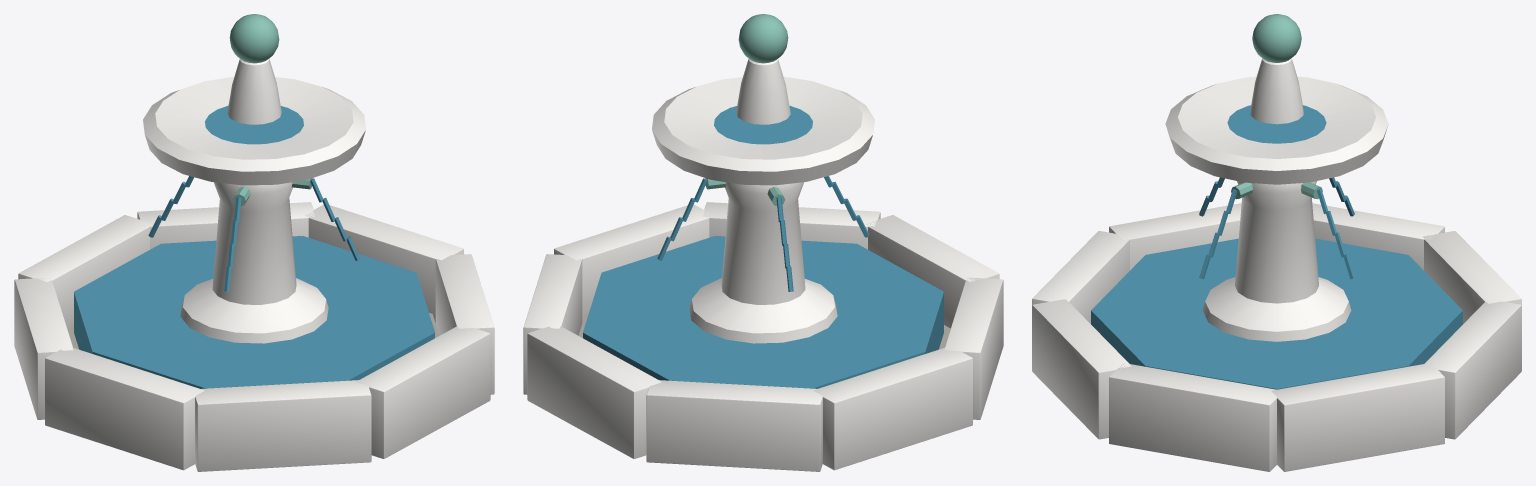
Rendered from th48_brunnen.glb.
3 views of the same model, side by side, from view 1: azimuth 30°, elevation 25°; view 2: azimuth 150°, elevation 25°; view 3: azimuth 270°, elevation 25° (orthographic).
Visible parts, largest first — view 1: Cylinder.001, Schale, Saeule, Cube.005, Cube.004, Cube.006, Cube, Cube.002, Cube.003, Cube.007, Cube.001, Aufsatz (+2 smaller); view 2: Cylinder.001, Schale, Saeule, Cube.002, Cube.003, Cube.001, Cube.007, Cube.005, Cube.004, Cube, Cube.006, Aufsatz (+2 smaller); view 3: Cylinder.001, Schale, Saeule, Cube, Cube.007, Cube.006, Cube.001, Cube.002, Cube.005, Cube.004, Cube.003, Aufsatz (+2 smaller).
Part boxes in pixels (box(x1,y1,x2,y2)): Cylinder.001: box(74, 236, 434, 388); Schale: box(143, 76, 365, 185); Saeule: box(180, 182, 328, 343); Cube.005: box(195, 380, 371, 471); Cube.004: box(45, 347, 204, 470); Cube.006: box(356, 326, 490, 458); Cube: box(305, 204, 463, 322); Cube.002: box(18, 215, 152, 328); Cube.003: box(14, 278, 72, 419); Cube.007: box(435, 254, 494, 394); Cube.001: box(137, 202, 314, 249); Aufsatz: box(227, 59, 281, 124); Cylinder.001: box(583, 236, 943, 388); Schale: box(652, 76, 874, 185); Saeule: box(689, 182, 837, 343); Cube.002: box(646, 380, 822, 471); Cube.003: box(813, 347, 972, 470); Cube.001: box(527, 326, 661, 458); Cube.007: box(554, 204, 710, 322); Cube.005: box(865, 215, 999, 328); Cube.004: box(945, 277, 1003, 419); Cube: box(523, 254, 582, 394); Cube.006: box(703, 202, 880, 249); Aufsatz: box(736, 59, 790, 124); Cylinder.001: box(1091, 238, 1462, 389); Schale: box(1165, 76, 1388, 184); Saeule: box(1202, 181, 1351, 341); Cube: box(1271, 363, 1444, 471); Cube.007: box(1109, 363, 1276, 471); Cube.006: box(1032, 299, 1130, 439); Cube.001: box(1423, 301, 1521, 439); Cube.002: box(1422, 231, 1521, 323); Cube.005: box(1032, 231, 1129, 323); Cube.004: box(1109, 203, 1241, 270); Cube.003: box(1312, 203, 1444, 270); Aufsatz: box(1250, 58, 1303, 124).
Bounding box in the file's own units: 3.95 × 3.14 × 3.95.
